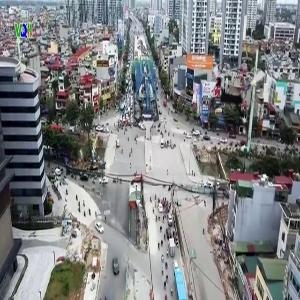drone: (203, 56, 274, 127)
